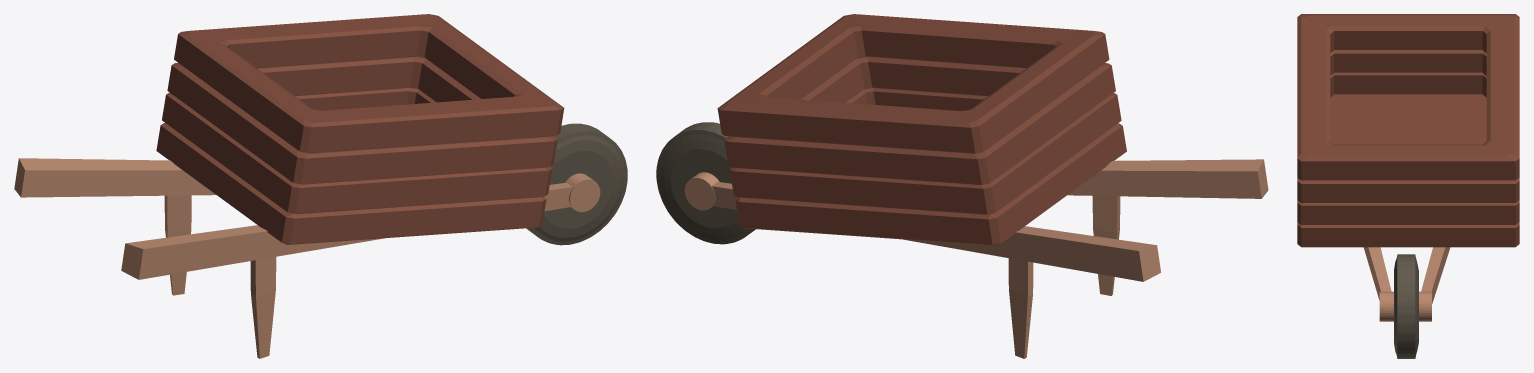
The model's file is wheelbarrow_garden.fbx.
3 renders of one model, left to right at view 1: azimuth 30°, elevation 25°; view 2: azimuth 150°, elevation 25°; view 3: azimuth 270°, elevation 25°, orthographic. The views are drawn at different scales.
Parts seen in each view (by area): view 1: wheelbarrow_garden, Cube.024, Cube.029; view 2: wheelbarrow_garden, Cube.024, Cube.029; view 3: wheelbarrow_garden, Cube.029, Cube.024.
Boxes of the visible parts, left/top/right/bottom form: wheelbarrow_garden: left=156, top=14, right=564, bottom=244; Cube.024: left=14, top=158, right=600, bottom=358; Cube.029: left=526, top=123, right=627, bottom=245; wheelbarrow_garden: left=717, top=14, right=1126, bottom=245; Cube.024: left=684, top=159, right=1268, bottom=358; Cube.029: left=656, top=122, right=755, bottom=244; wheelbarrow_garden: left=1297, top=14, right=1519, bottom=247; Cube.029: left=1394, top=254, right=1418, bottom=358; Cube.024: left=1363, top=247, right=1450, bottom=321.
Size of the model in its own units: 179 by 75.02 by 73.5.
